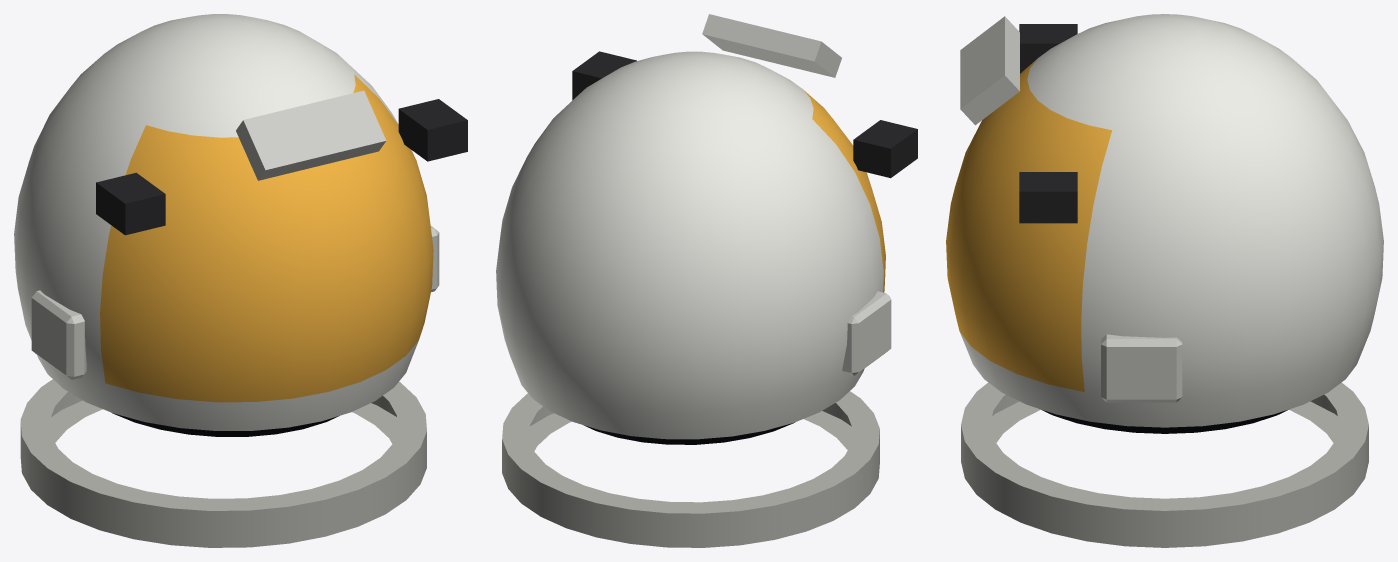
File: helmet_apollo.glb
The picture shows the model from 3 angles, left to right: view 1: azimuth 30°, elevation 25°; view 2: azimuth 150°, elevation 25°; view 3: azimuth 270°, elevation 25°; orthographic projection. The views are drawn at different scales.
Visible parts, largest first — view 1: model; view 2: model; view 3: model.
Boxes of the visible parts, x1,y1,x2,y2 form: model: (14, 14, 467, 547); model: (496, 14, 917, 547); model: (946, 14, 1383, 547).
Size of the model in its own units: 0.37 by 0.408 by 0.3757.
Materials: 1 (1 with a texture image).
